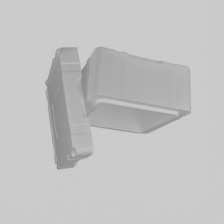foam_box: (60, 43, 197, 138), (41, 43, 98, 175)
